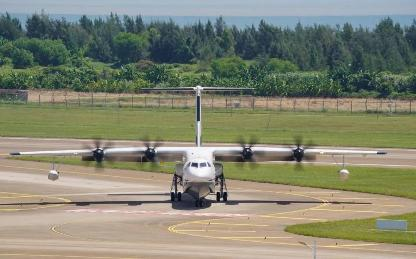AG600: (9, 85, 387, 206)
